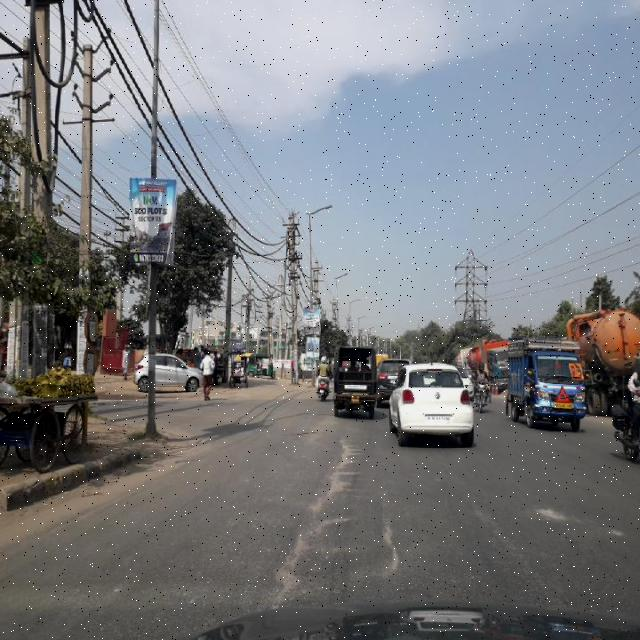D00: (275, 434, 353, 596), (364, 496, 400, 581)
